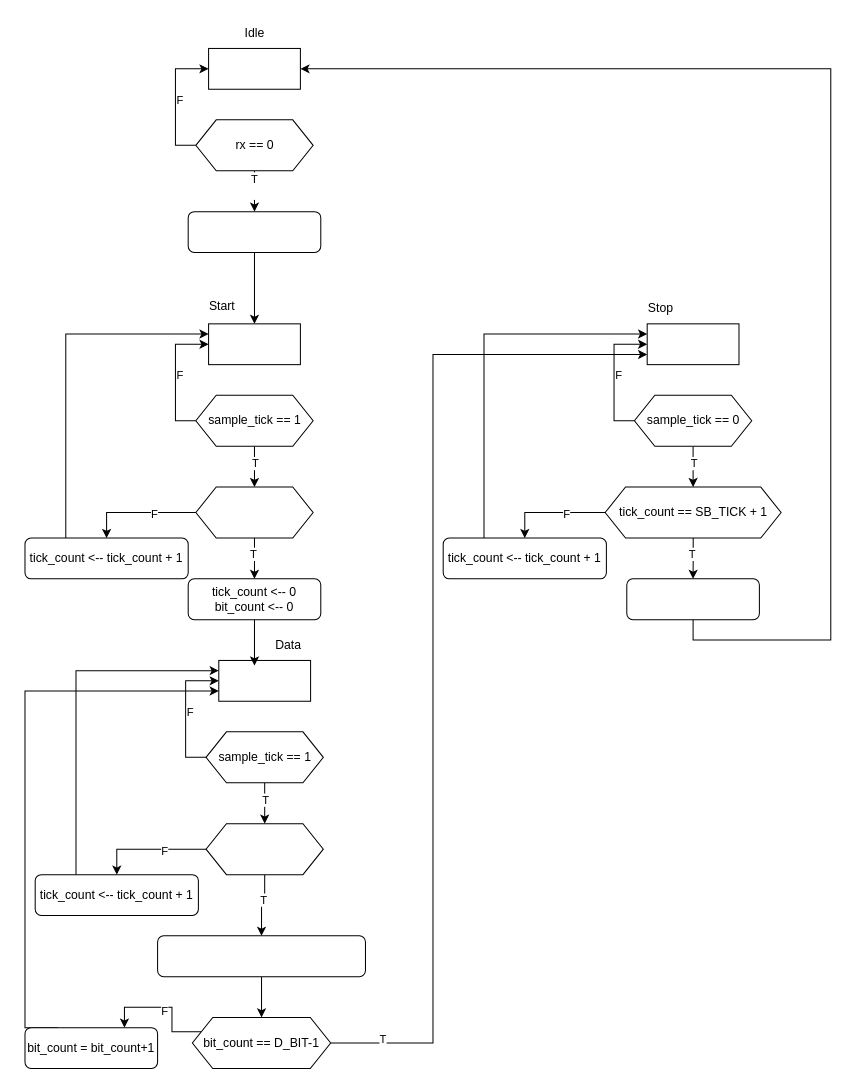
The diagram is 857 pixels wide and 1086 high, and some of its shapes have lost their labels. Here are the shapes that lost their labels. From the top down, the centre of each, then its label:
At (254,231): "tick_count <-- 0".
At (254,512): "tick_count == 7".
At (692,599): "rx_done_tick = 1".
At (264,849): "tick_count == 15".
At (261,956): "tick_count <-- 0 rx_shift_reg <-- {rx, rx_shift_reg[7:1]}".
